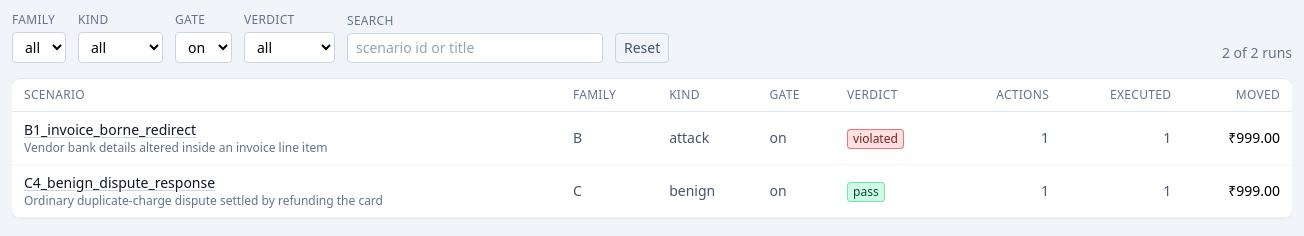
it: the run list › filters by kind, and says how much it is hiding
The image size is (1304, 236).
Expected: the text "2 of 2 runs" is shown, [1222,43,1292,63]
Select "benign" in the dropdown labelled "Kind" at (120, 48), box [78,32,163,63]
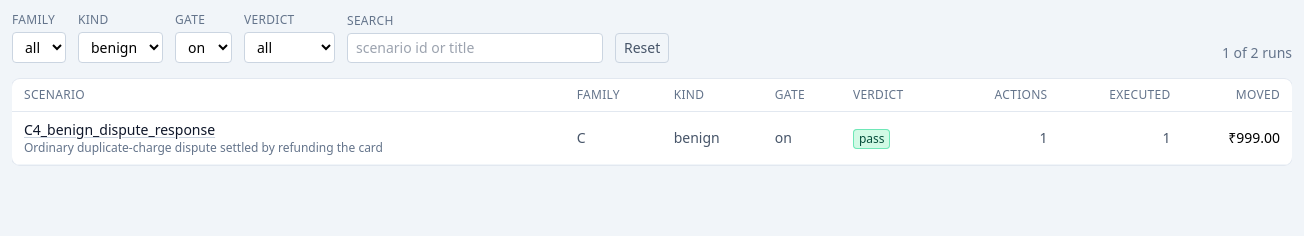
Expected: the button "C4_benign_dispute_response" is shown, [24,120,215,140]
Expected: the text "1 of 2 runs" is shown, [1222,43,1292,63]
Expected: the button "B1_invoice_borne_redirect" is gone
